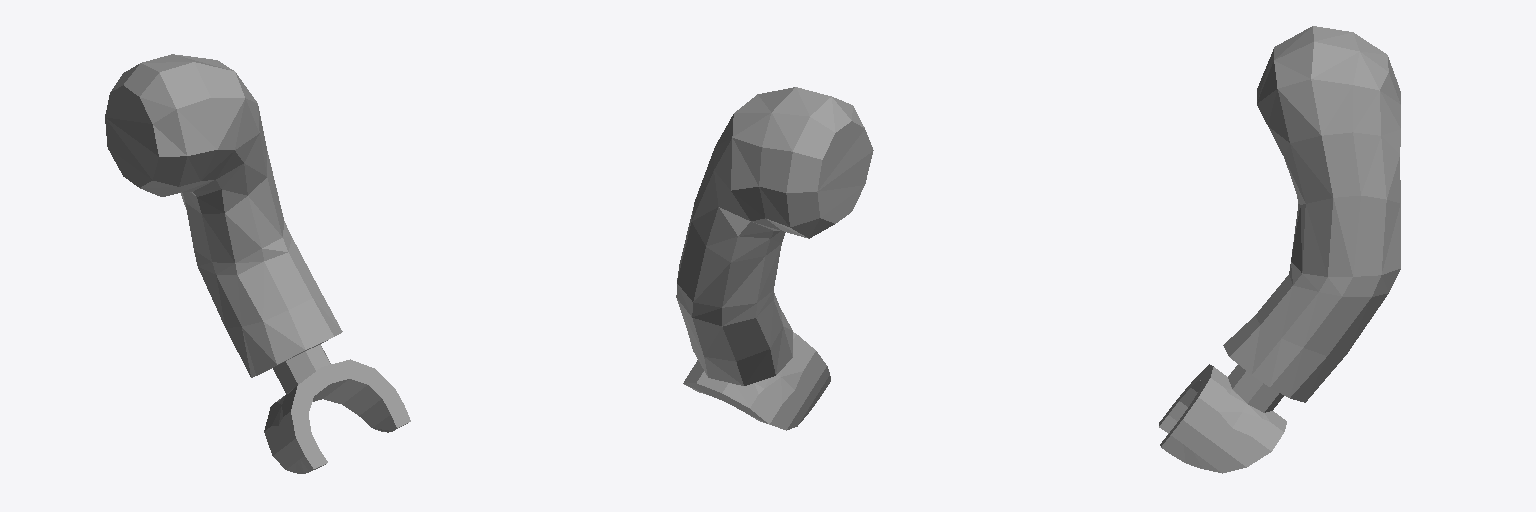
The model's file is legoLeftHand.obj.
The picture shows the model from 3 angles: view 1: azimuth 30°, elevation 25°; view 2: azimuth 150°, elevation 25°; view 3: azimuth 270°, elevation 25°; orthographic projection.
Visible parts, largest first — view 1: Mesh_Default; view 2: Mesh_Default; view 3: Mesh_Default.
Part boxes in pixels (x1,y1,x2,y2): Mesh_Default: (105, 54, 410, 473); Mesh_Default: (676, 87, 873, 430); Mesh_Default: (1159, 26, 1400, 473).
Size of the model in its own units: 1.1 by 2 by 1.14.